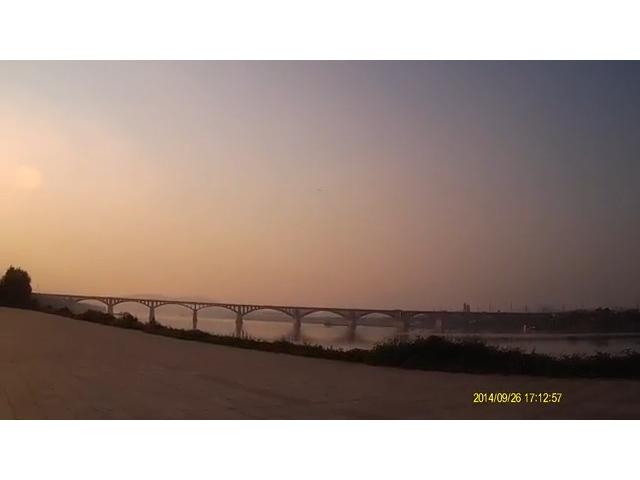Anti-Drone: (311, 182, 335, 200)
